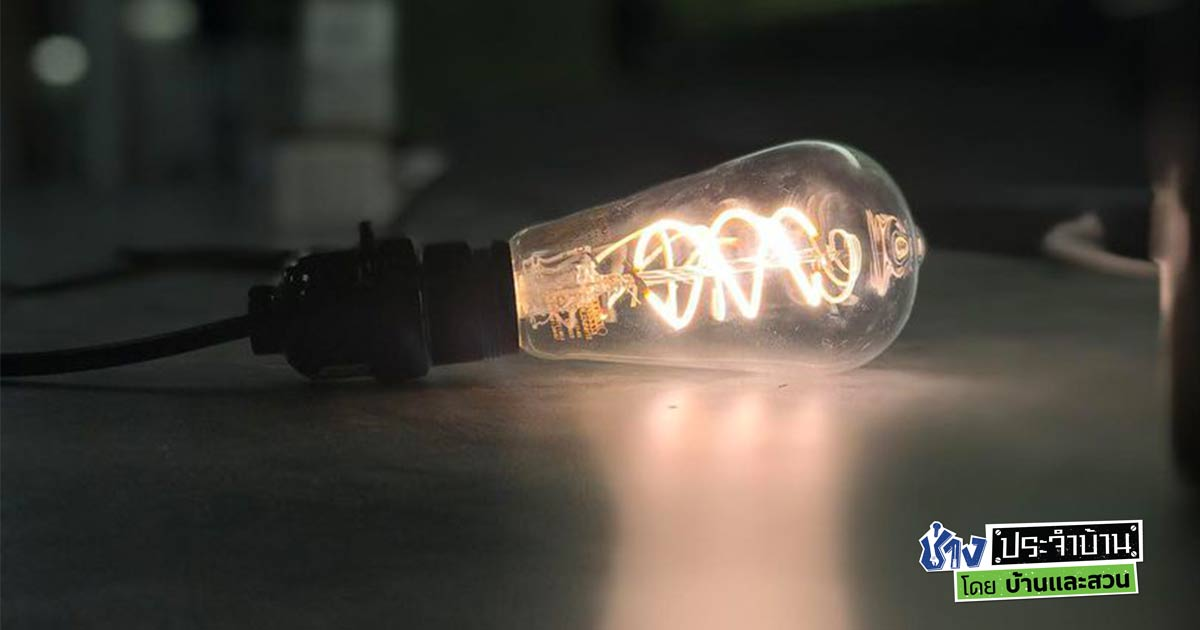Light_bulb: (241, 129, 936, 389)
